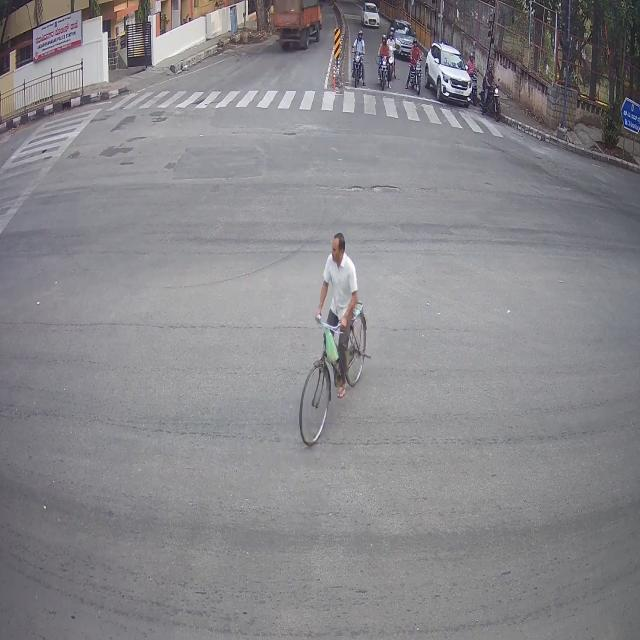Bicycle: (302, 246, 372, 431)
Car: (430, 48, 467, 110), (358, 0, 384, 33), (396, 16, 416, 56)
Two-wheelers: (375, 41, 396, 101), (408, 52, 428, 90), (354, 42, 368, 94), (488, 64, 499, 117), (469, 56, 481, 100)
